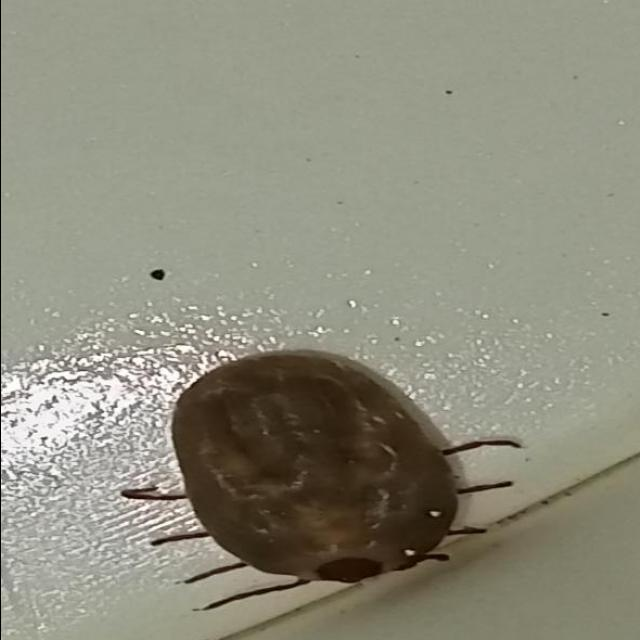Rhipicephalus Sanguineus-F-Fed: (119, 350, 522, 612)
